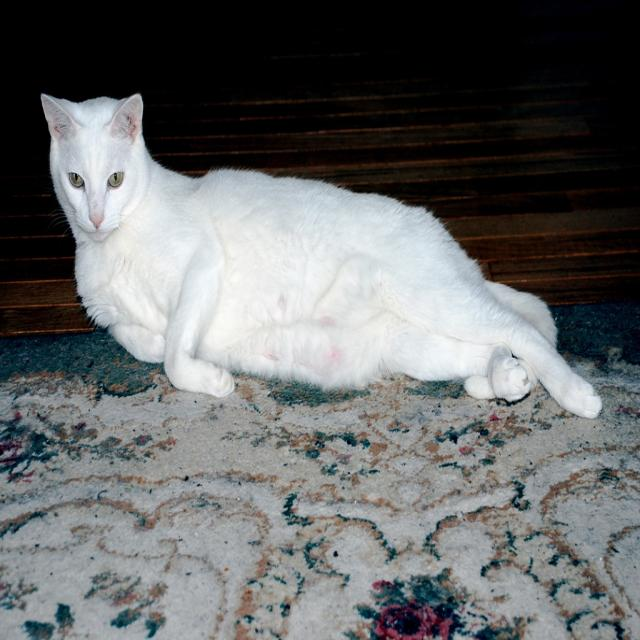Cat: (38, 91, 600, 413)
